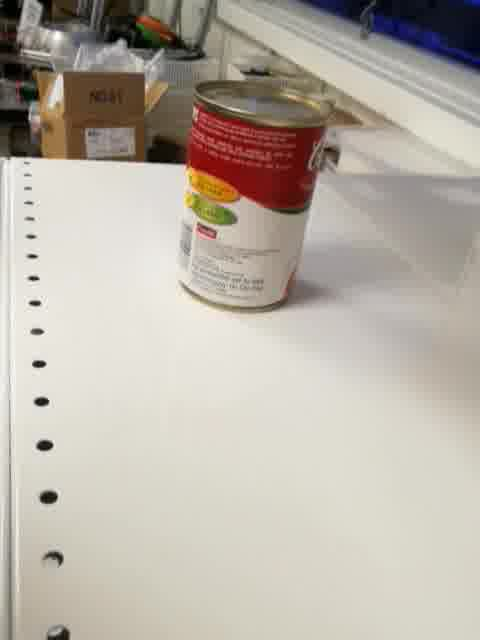tomatosoup: (175, 77, 331, 318)
